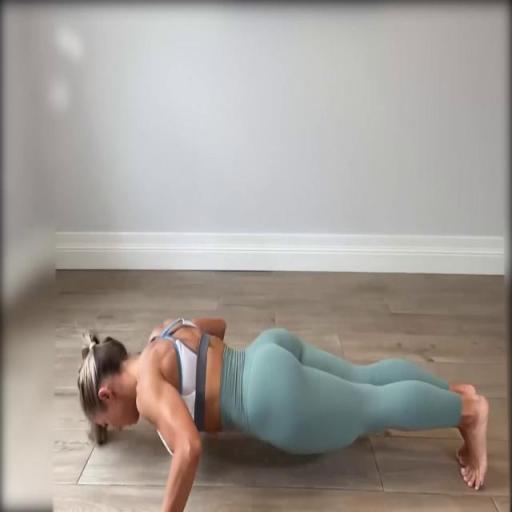Normal_BrenchPress: (76, 315, 492, 510)
